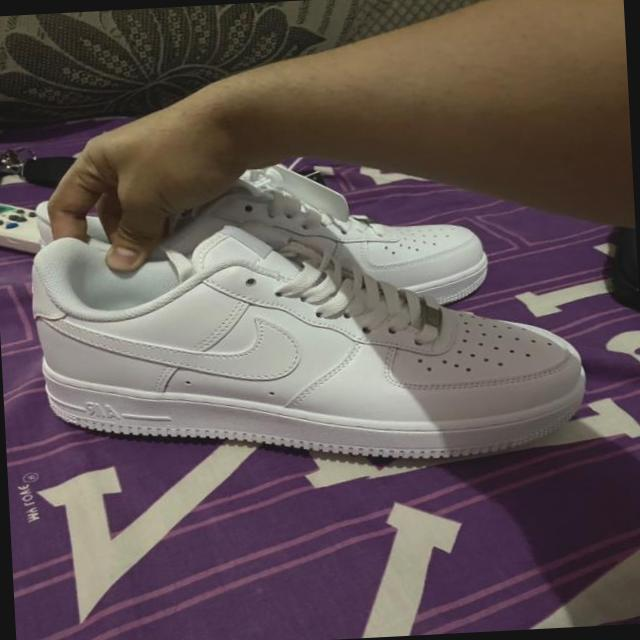nike_original_airforce: (25, 206, 598, 484), (84, 139, 491, 319)
